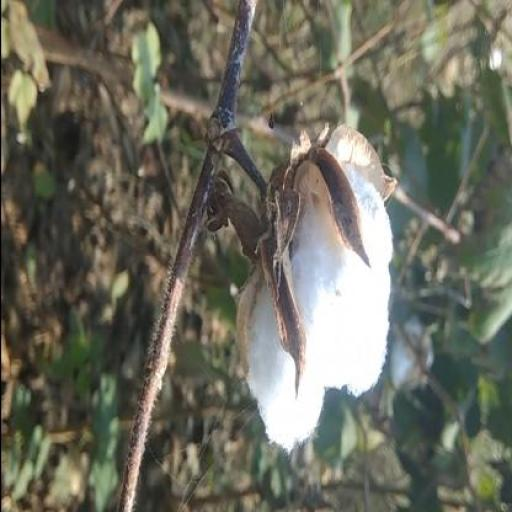cotton_ready: (173, 92, 415, 459)
